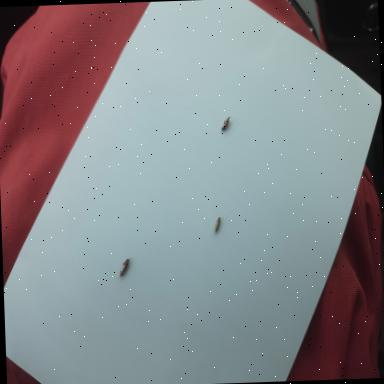pbw: (117, 256, 133, 276), (220, 116, 231, 130), (213, 216, 220, 232)
